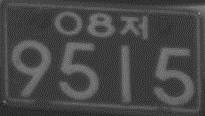0: (53, 10, 83, 37)
1: (107, 43, 144, 103)
5: (56, 41, 99, 100), (152, 46, 194, 106)
8: (86, 11, 116, 39)
9: (10, 38, 52, 98)
저: (119, 14, 149, 40)
